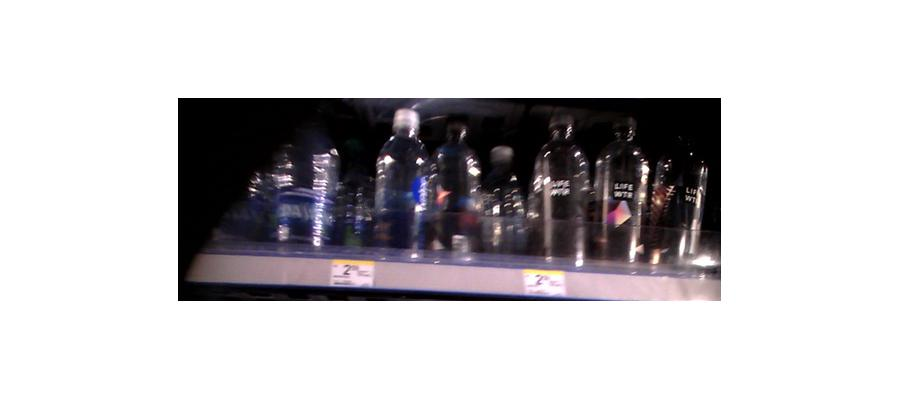bottle: (259, 111, 342, 254), (370, 108, 434, 259), (531, 107, 590, 261), (591, 116, 647, 263), (657, 126, 712, 269), (434, 120, 480, 258), (480, 145, 528, 258)
